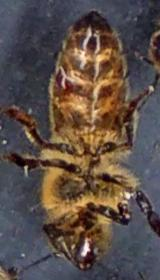varroa_mite: (42, 60, 77, 101)
